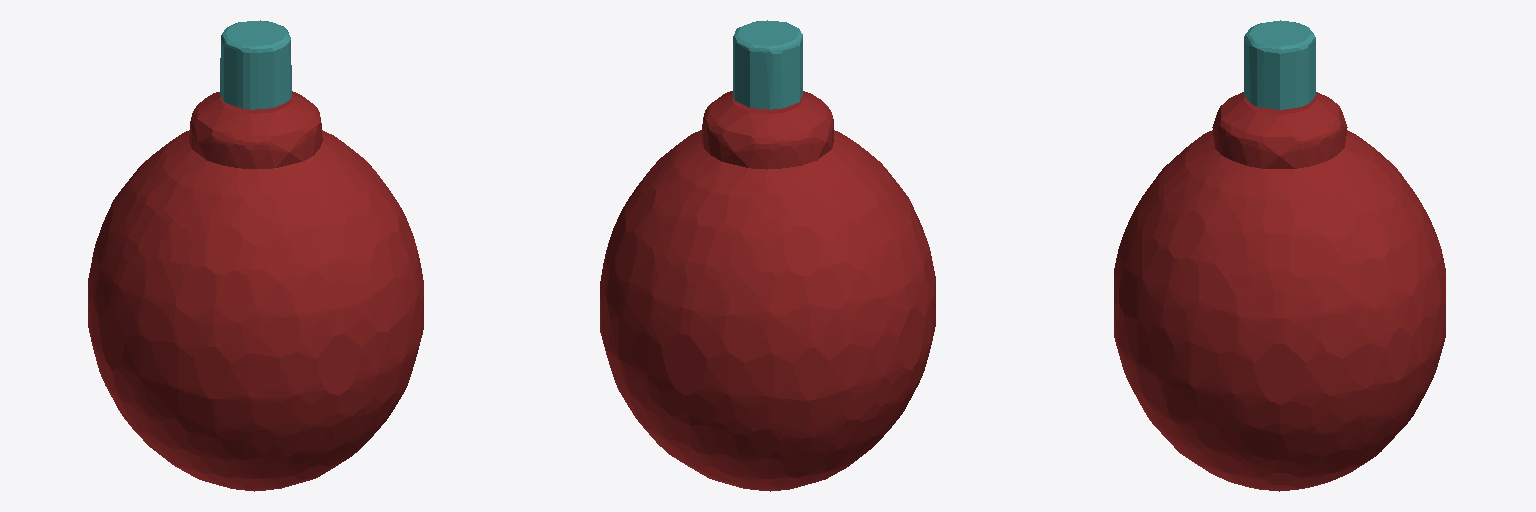
The robot description file, URDF, robot "root":
<robot name="root">
  <link name="bottle_body">
    <inertial>
      <origin xyz="0 0 0" rpy="0 0 0"/>
    </inertial>
    <mass value="1.00E-02"/>
    <visual>
      <origin xyz="0 0 0" rpy="0 0 0"/>
      <geometry>
        <mesh filename="core-bottle-bd6fdeae09b3c00c3ea96ac97db63fa8-coacd_convex_piece_2.obj" scale="1.0000E-01 1.0000E-01 1.0000E-01"/>
      </geometry>
      <material name="">
        <color rgba="6.00E-01 2.00E-01 2.00E-01 1"/>
      </material>
    </visual>
    <collision>
      <origin xyz="0 0 0" rpy="0 0 0"/>
      <geometry>
        <mesh filename="core-bottle-bd6fdeae09b3c00c3ea96ac97db63fa8-coacd_convex_piece_2.obj" scale="1.0000E-01 1.0000E-01 1.0000E-01"/>
      </geometry>
    </collision>
    <visual>
      <origin xyz="0 0 0" rpy="0 0 0"/>
      <geometry>
        <mesh filename="core-bottle-bd6fdeae09b3c00c3ea96ac97db63fa8-coacd_convex_piece_0.obj" scale="1.0000E-01 1.0000E-01 1.0000E-01"/>
      </geometry>
      <material name="">
        <color rgba="6.00E-01 2.00E-01 2.00E-01 1"/>
      </material>
    </visual>
    <collision>
      <origin xyz="0 0 0" rpy="0 0 0"/>
      <geometry>
        <mesh filename="core-bottle-bd6fdeae09b3c00c3ea96ac97db63fa8-coacd_convex_piece_0.obj" scale="1.0000E-01 1.0000E-01 1.0000E-01"/>
      </geometry>
    </collision>
  </link>
  <link name="bottle_cap">
    <origin xyz="0 0 0.002" rpy="0 0 0"/>
    <mass value="1.00E-02"/>
    <visual>
      <origin xyz="0 0 0.002" rpy="0 0 0"/>
      <geometry>
        <mesh filename="core-bottle-bd6fdeae09b3c00c3ea96ac97db63fa8-coacd_convex_piece_1.obj" scale="1.0000E-01 1.0000E-01 1.0000E-01"/>
      </geometry>
      <material name="">
        <color rgba="3.00E-01 6.00E-01 6.00E-01 1"/>
      </material>
    </visual>
    <collision>
      <origin xyz="0 0 0.002" rpy="0 0 0"/>
      <geometry>
        <mesh filename="core-bottle-bd6fdeae09b3c00c3ea96ac97db63fa8-coacd_convex_piece_1.obj" scale="1.0000E-01 1.0000E-01 1.0000E-01"/>
      </geometry>
    </collision>
  </link>
  <joint name="bottle_cap_joint" type="revolute">
    <origin xyz="0 0 0" rpy="0 0 0"/>
    <parent link="bottle_body"/>
    <child link="bottle_cap"/>
    <axis xyz="0 0 1"/>
    <limit lower="0.00" upper="6.28"/>
    <dynamics damping="0.05"/>
  </joint>
</robot>

--- Render facts (derived) ---
The picture shows the robot from 3 angles, left to right: view 1: azimuth 30°, elevation 25°; view 2: azimuth 150°, elevation 25°; view 3: azimuth 270°, elevation 25°; orthographic projection.
Robot: root — 2 links, 1 joints (1 revolute); root link bottle_body; default pose: all joints at 0.
Visible links, largest first — view 1: bottle_body, bottle_cap; view 2: bottle_body, bottle_cap; view 3: bottle_body, bottle_cap.
Boxes of the visible links, x1=… form: bottle_body: x1=88, y1=91, x2=423, y2=491; bottle_cap: x1=220, y1=20, x2=291, y2=109; bottle_body: x1=600, y1=91, x2=935, y2=491; bottle_cap: x1=733, y1=20, x2=802, y2=109; bottle_body: x1=1114, y1=92, x2=1445, y2=491; bottle_cap: x1=1244, y1=20, x2=1315, y2=109.
Bounding box of the posed robot: 0.1344 × 0.1344 × 0.1951 m (x, y, z).
3 mesh visuals loaded from 3 distinct referenced files (3 OBJ).